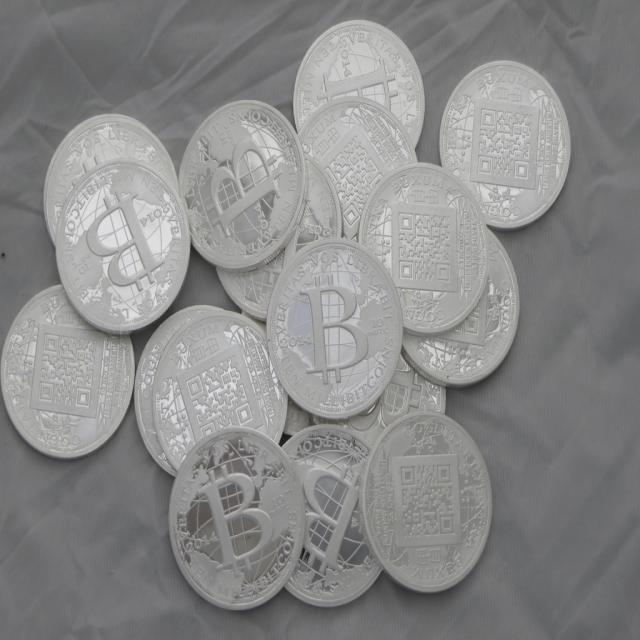Coin: (0, 17, 572, 607)
